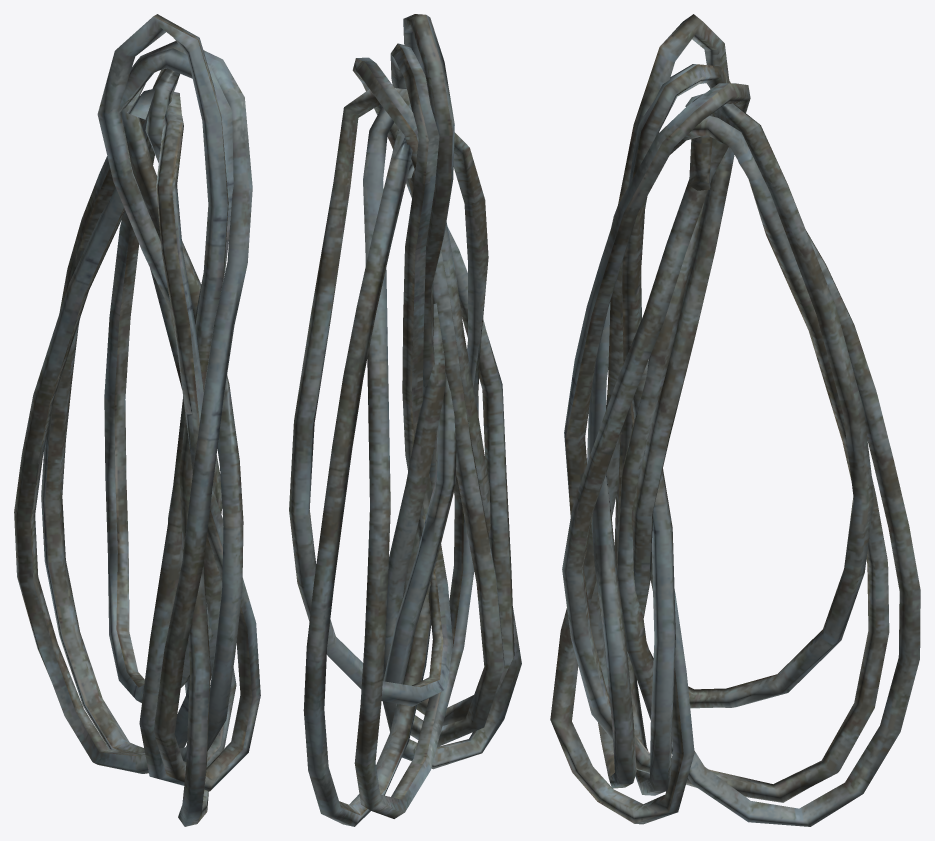
The model's file is Rope.fbx.
The picture shows the model from 3 angles, left to right: view 1: azimuth 30°, elevation 25°; view 2: azimuth 150°, elevation 25°; view 3: azimuth 270°, elevation 25°; orthographic projection. The views are drawn at different scales.
Parts seen in each view (by area): view 1: mesh_0.429; view 2: mesh_0.429; view 3: mesh_0.429.
Boxes of the visible parts, box(x1,y1,x2,y2) form: mesh_0.429: box(14, 14, 260, 826); mesh_0.429: box(289, 14, 521, 826); mesh_0.429: box(550, 14, 920, 826).
Size of the model in its own units: 0.1832 by 1.11 by 0.465.
